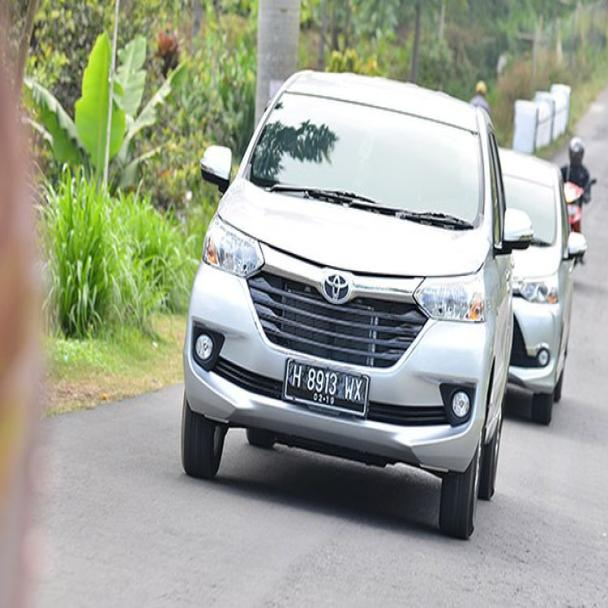Mobil: (174, 71, 512, 528)
